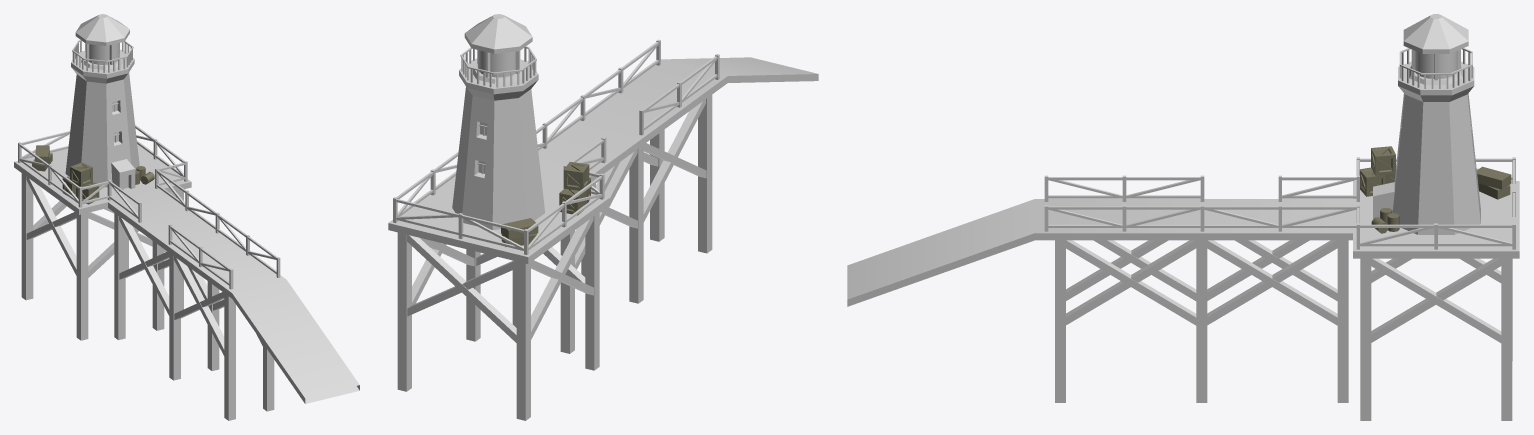
File: Props_LightHouse.fbx
The picture shows the model from 3 angles, left to right: view 1: azimuth 30°, elevation 25°; view 2: azimuth 150°, elevation 25°; view 3: azimuth 270°, elevation 25°; orthographic projection. The views are drawn at different scales.
Parts seen in each view (by area): view 1: Cube.003; view 2: Cube.003; view 3: Cube.003.
Boxes of the visible parts, x1,y1,x2,y2 form: Cube.003: (14,14,359,420); Cube.003: (388,14,818,420); Cube.003: (847,14,1519,420).
Size of the model in its own units: 32.42 by 79.95 by 131.
